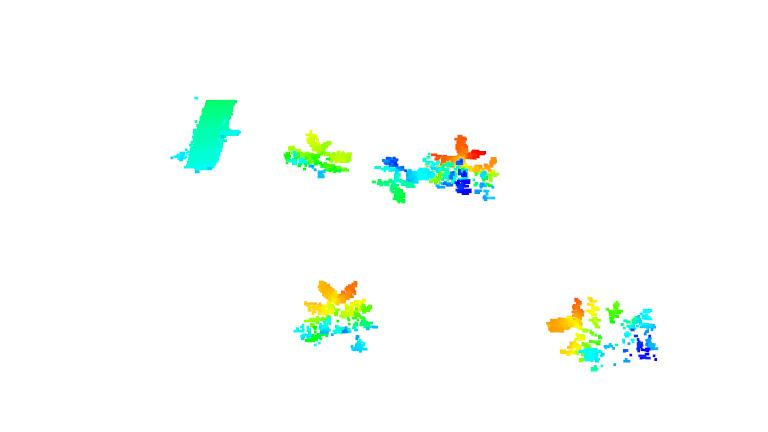chickpea: (545, 297, 658, 373), (296, 280, 377, 356), (426, 133, 500, 203), (282, 128, 353, 178), (371, 155, 421, 205)
